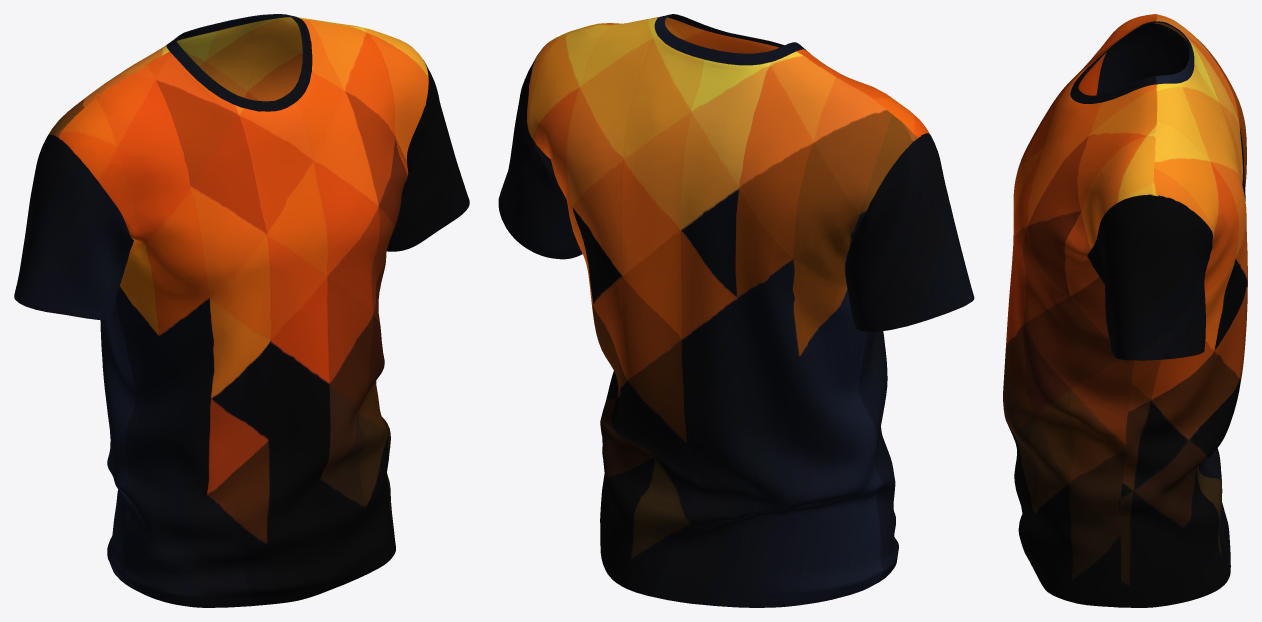
Rendered from shirt_baked2.glb.
The picture shows the model from 3 angles, left to right: view 1: azimuth 30°, elevation 25°; view 2: azimuth 150°, elevation 25°; view 3: azimuth 270°, elevation 25°; orthographic projection. The views are drawn at different scales.
Visible parts, largest first — view 1: T_Shirt_male; view 2: T_Shirt_male; view 3: T_Shirt_male.
Part boxes in pixels (bbox=[...]): T_Shirt_male: bbox=[14, 14, 469, 607]; T_Shirt_male: bbox=[498, 14, 974, 607]; T_Shirt_male: bbox=[1003, 14, 1247, 607].
Size of the model in its own units: 0.5502 by 0.613 by 0.269.
1 material, 1 textured.
